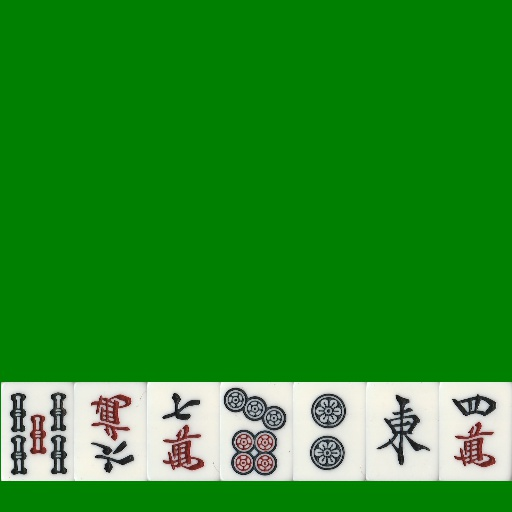2p: (293, 382, 366, 481)
4m: (439, 382, 512, 481)
5s: (1, 382, 74, 481)
6m: (74, 382, 147, 481)
7m: (147, 382, 220, 481)
7p: (220, 382, 293, 481)
east: (366, 382, 439, 481)
